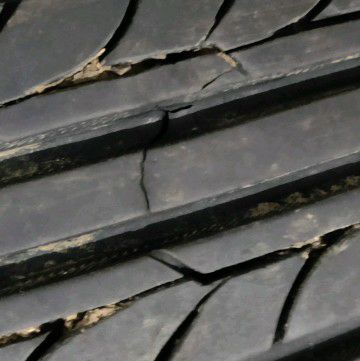tr: (109, 103, 199, 216)
